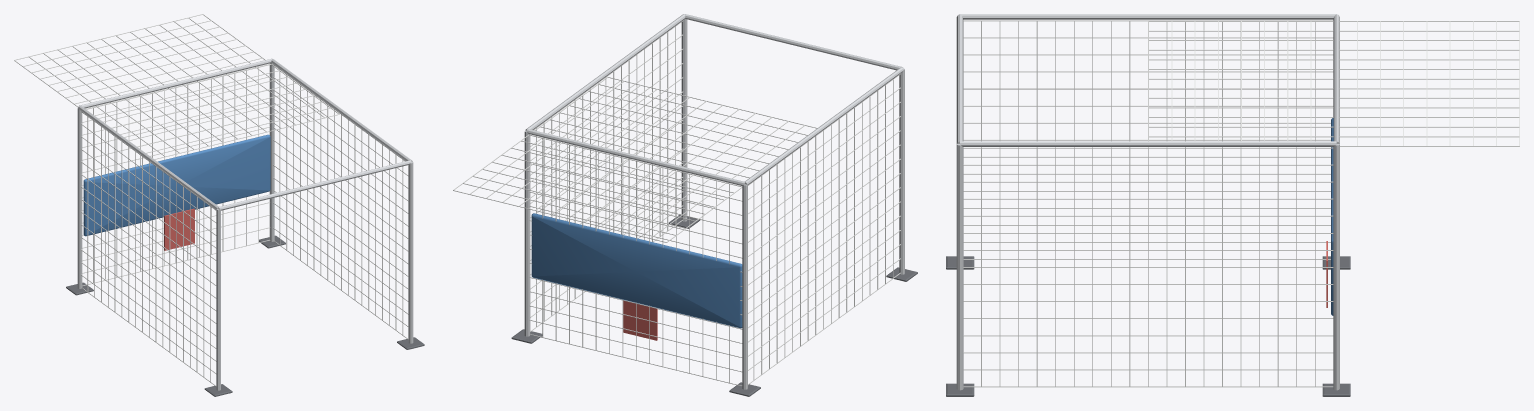
The model's file is community-sports-hall-and-changing-rooms-cricket-net-f-b867eda8__35095.glb.
The picture shows the model from 3 angles, left to right: view 1: azimuth 30°, elevation 25°; view 2: azimuth 150°, elevation 25°; view 3: azimuth 270°, elevation 25°; orthographic projection. The views are drawn at different scales.
Parts seen in each view (by area): view 1: cricket-net-frame; view 2: cricket-net-frame; view 3: cricket-net-frame.
Boxes of the visible parts, left/top/right/bottom form: cricket-net-frame: left=14, top=14, right=424, bottom=396; cricket-net-frame: left=453, top=14, right=917, bottom=396; cricket-net-frame: left=946, top=14, right=1519, bottom=396.
Bounding box in the file's own units: 3.5 × 2.93 × 6.1.
